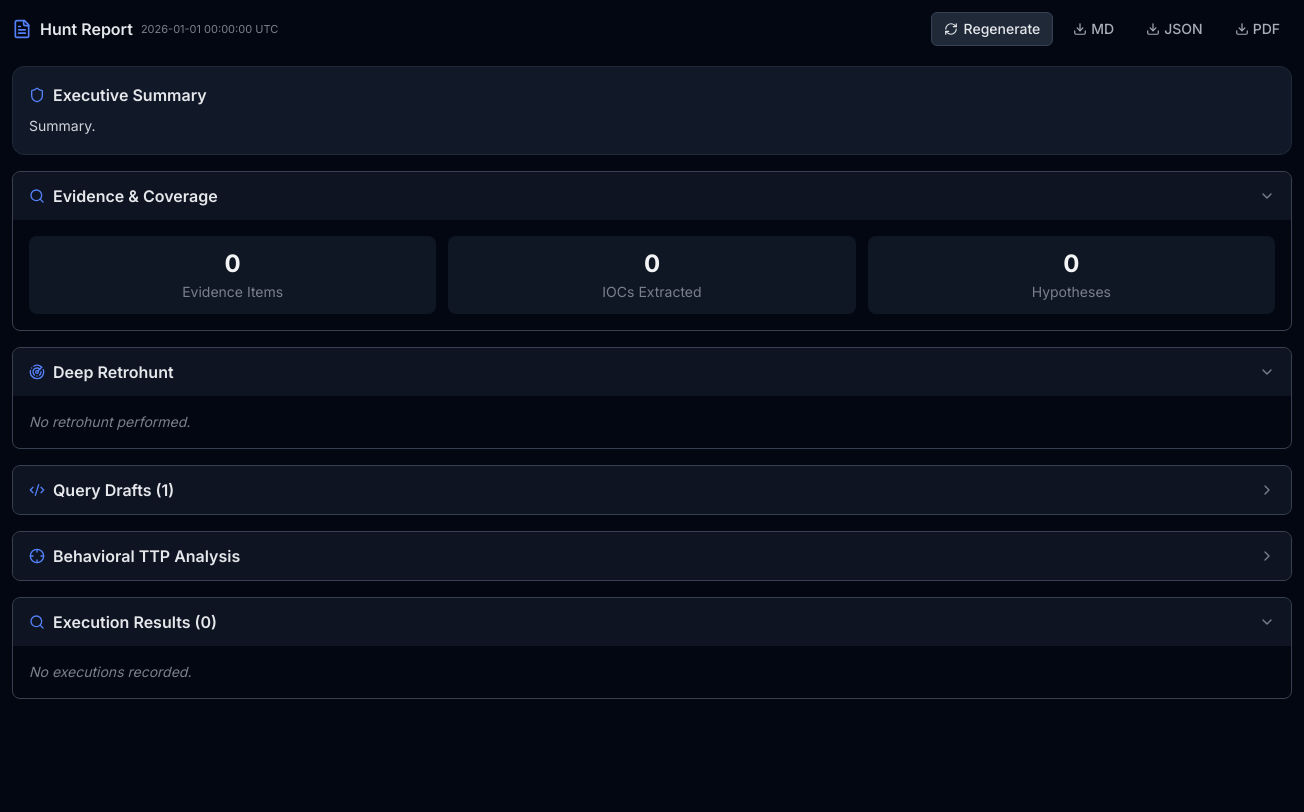
Test: ReportPanel — Query Drafts section (issue-local-042) › shows each query draft in a code card once expanded
The width and height of the screenshot is (1304, 812).
Expected: the text "Summary." is shown, [29,117,95,134]
What coordinates should you click on to do the following:
click the button "Query Drafts (1)"
I would click on:
 (114, 490)
Its box is [13,466,1291,514].
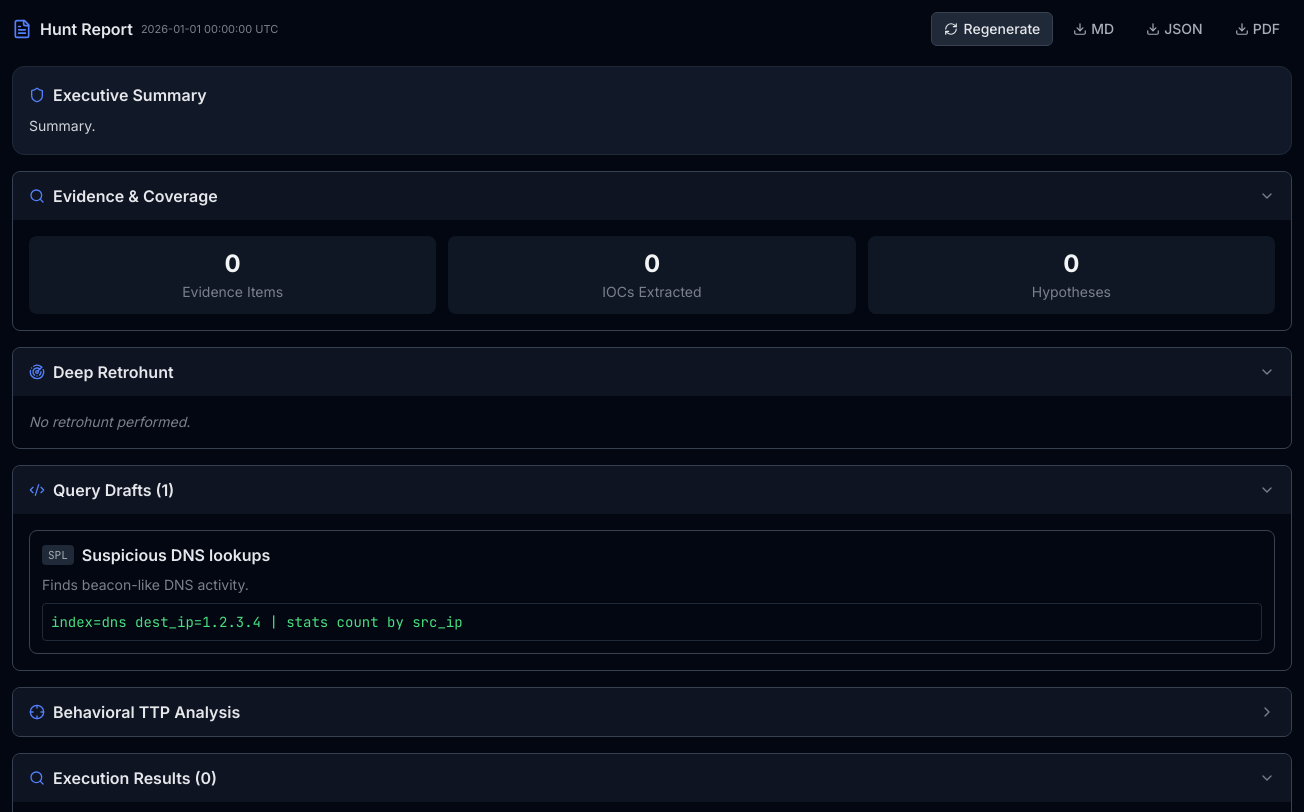
Expected: the text "Suspicious DNS lookups" is shown, [82,543,270,567]
Expected: the text "Finds beacon-like DNS activity." is shown, [42,576,249,593]
Expected: the text "index=dns dest_ip=1.2.3.4 | stats count by src_ip" is shown, [42,603,1262,641]
